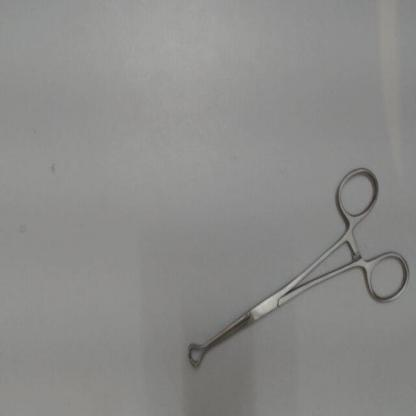Babcock Tissue Forceps: (186, 161, 414, 370)
